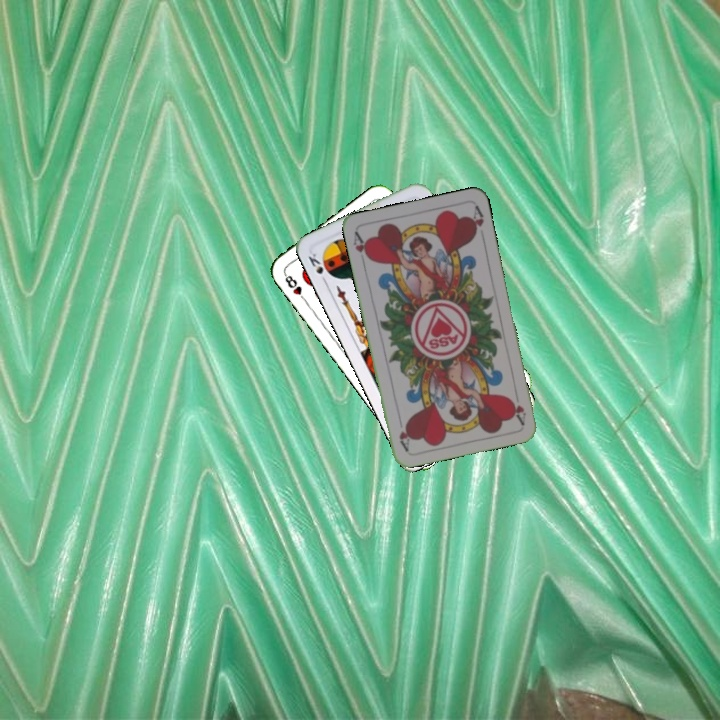H8: (280, 269, 309, 305)
HA: (349, 228, 373, 268), (506, 386, 529, 427)
SK: (304, 249, 330, 287)
